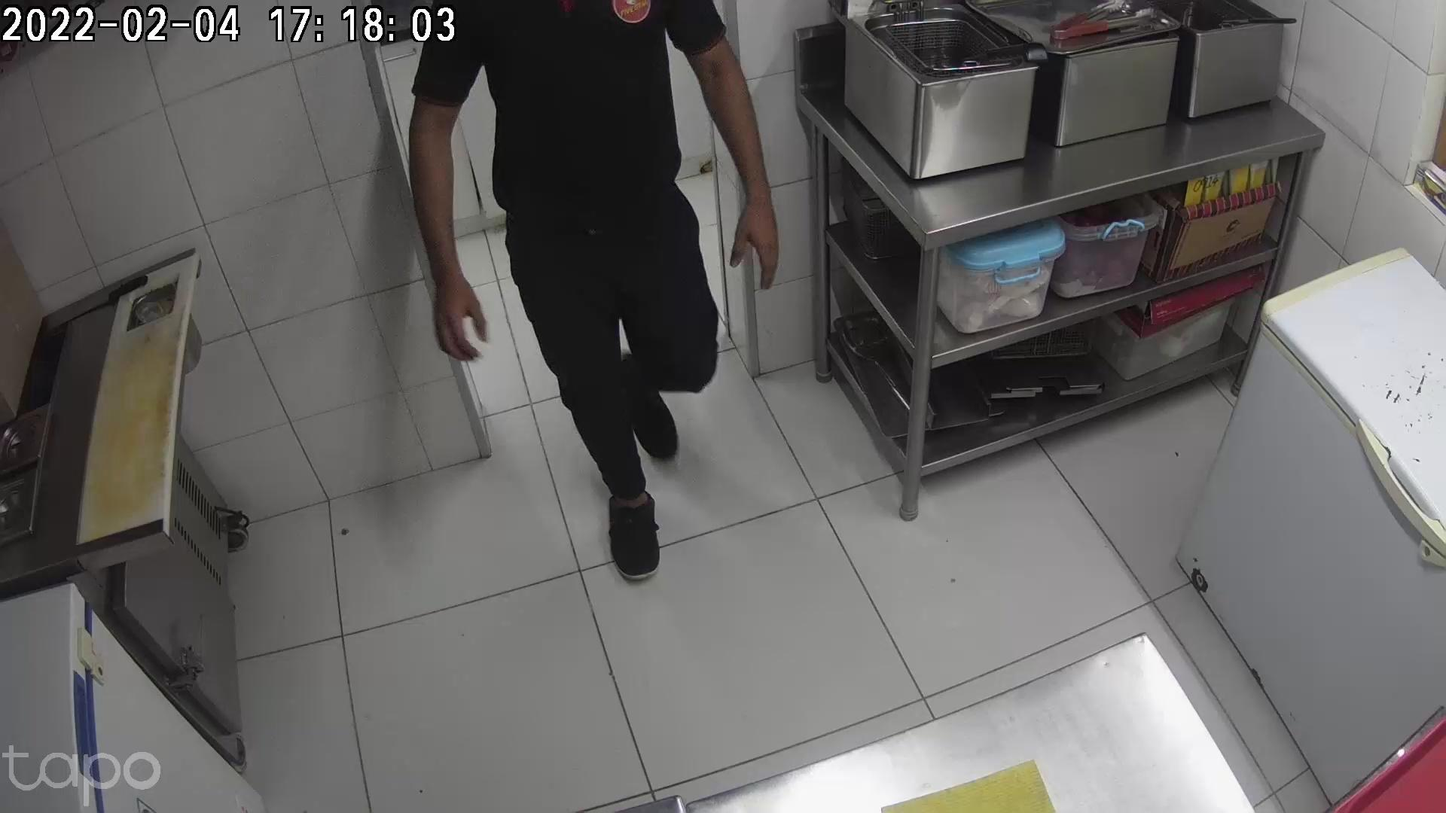no_gloves: (734, 166, 783, 295), (431, 252, 488, 362)
